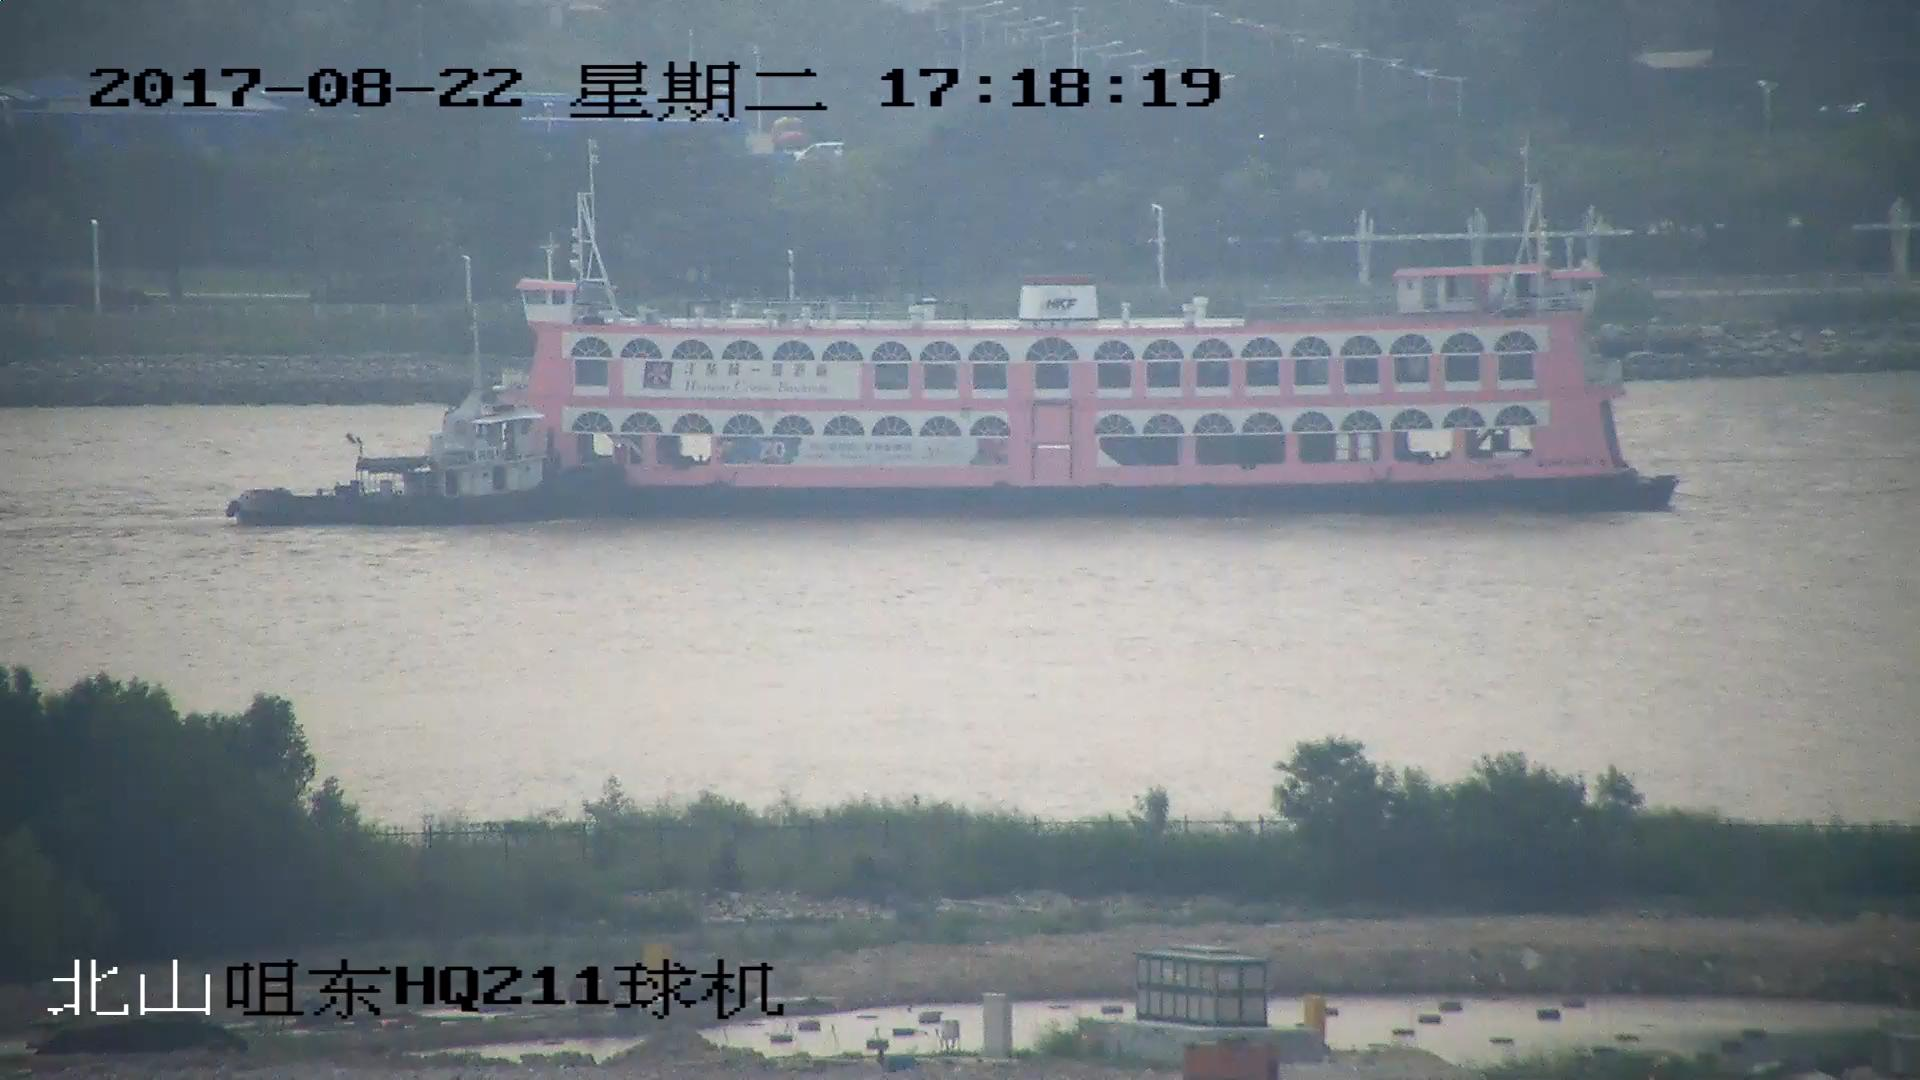passenger ship: (226, 179, 1682, 519)
